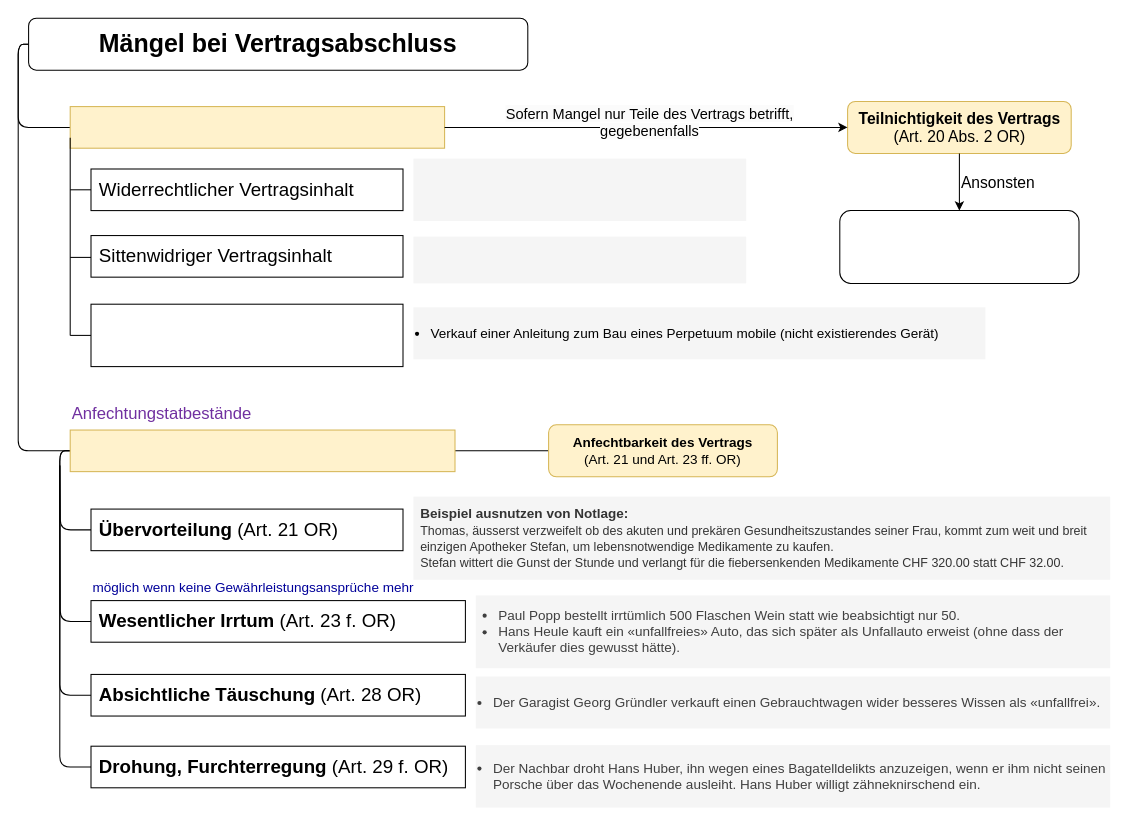
This 1128x826 diagram has some shape labels left out. The centre of each missing label's shape, as x and y in pixels:
Anfänglich objektiv unmöglicher Vertragsinhalt: (x=246, y=335)
Beispiele ewige Verträge ohne Kündigungsmöglichkeit Kaufvertrag über 5g Kokain: (x=579, y=189)
Gänzliche Nichtigkeit des Vertrags (Art. 20 OR): (x=959, y=246)
Inhaltsmängel (Art. 20 Abs. 1 OR): (x=257, y=127)
Prostitutionsvertrag (umstritten) bezahlte Unterstützung der Erbschleicherei: (x=579, y=259)
Willensmängel und Übervorteilung: (x=262, y=450)
